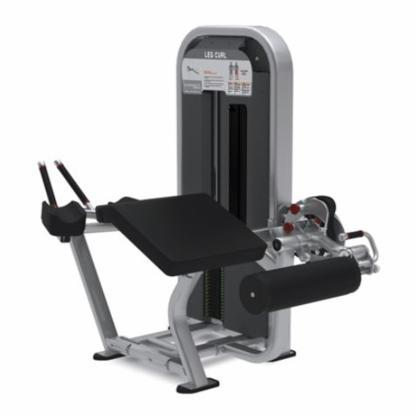reg curl machine: (37, 15, 384, 395)
